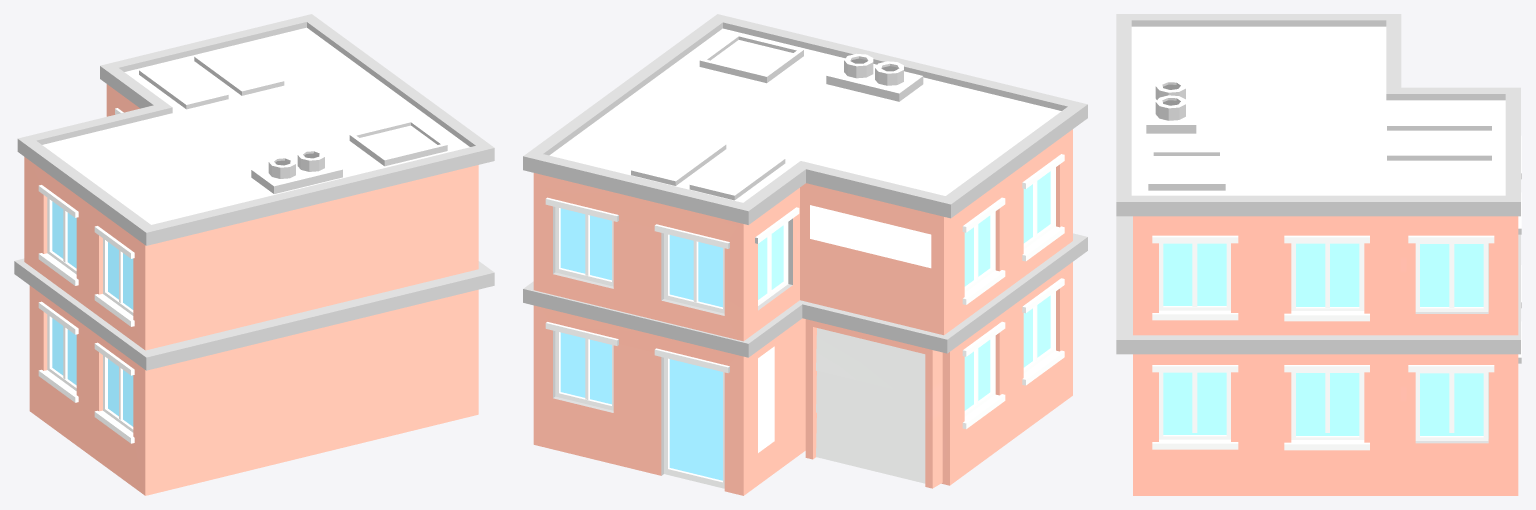
The model's file is purpose.009.glb.
3 views of the same model, side by side, from view 1: azimuth 30°, elevation 25°; view 2: azimuth 150°, elevation 25°; view 3: azimuth 270°, elevation 25° (orthographic). The views are drawn at different scales.
Visible parts, largest first — view 1: purpose.009(Clone); view 2: purpose.009(Clone); view 3: purpose.009(Clone).
Boxes of the visible parts, x1=… form: purpose.009(Clone): x1=14, y1=14, x2=494, y2=495; purpose.009(Clone): x1=523, y1=14, x2=1087, y2=495; purpose.009(Clone): x1=1116, y1=14, x2=1521, y2=495.
Bounding box in the file's own units: 7.94 × 6.17 × 7.23.
Materials: 1 (1 with a texture image).
